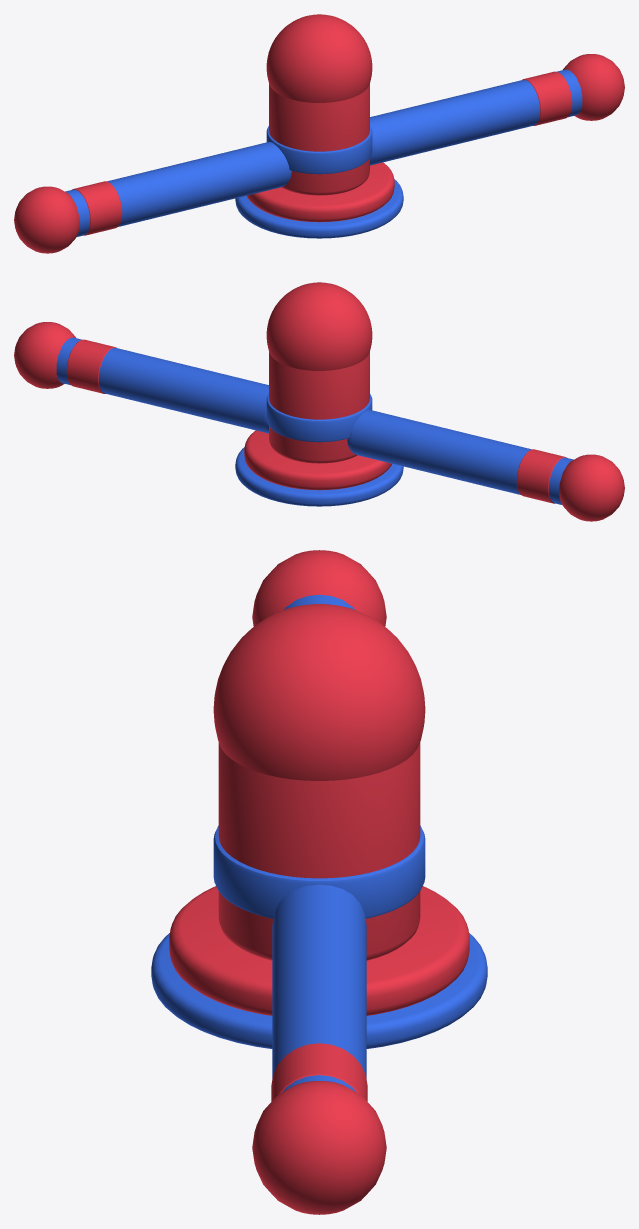
Rendered from SD_RotatingBeam.fbx.
3 renders of one model, top to bottom at view 1: azimuth 30°, elevation 25°; view 2: azimuth 150°, elevation 25°; view 3: azimuth 270°, elevation 25°, orthographic. The views are drawn at different scales.
Parts seen in each view (by area): view 1: Arm, Base; view 2: Arm, Base; view 3: Base, Arm.
Part boxes in pixels (left/top/right/bottom): Arm: left=14, top=54, right=624, bottom=253; Base: left=235, top=14, right=403, bottom=238; Arm: left=14, top=322, right=624, bottom=521; Base: left=235, top=282, right=403, bottom=506; Base: left=151, top=604, right=487, bottom=1048; Arm: left=252, top=550, right=386, bottom=1214.
Size of the model in its own units: 6.2 by 1.82 by 1.5.
